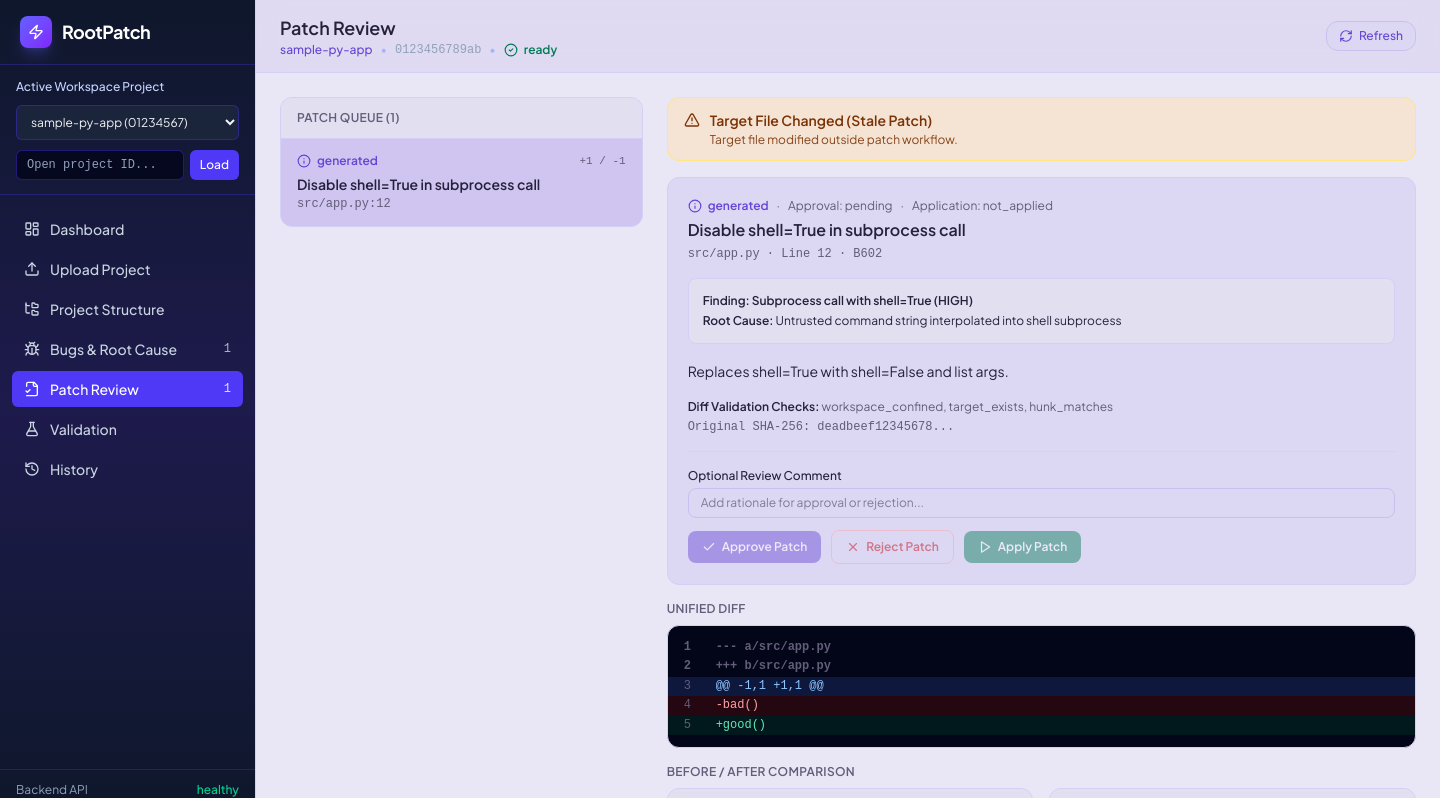
Test: RootPatch Step 8 Frontend Workflows › strips ANSI escape sequences and disables apply/validate on stale or unapplied patches
Expected: the text "Target File Changed (Stale Patch)" is shown, x1=710 y1=110 x2=958 y2=130
Expected: the button "Approve Patch" is disabled, x1=688 y1=531 x2=821 y2=563
Click the button "Validation" at coordinates (128, 429), box x1=12 y1=411 x2=243 y2=447
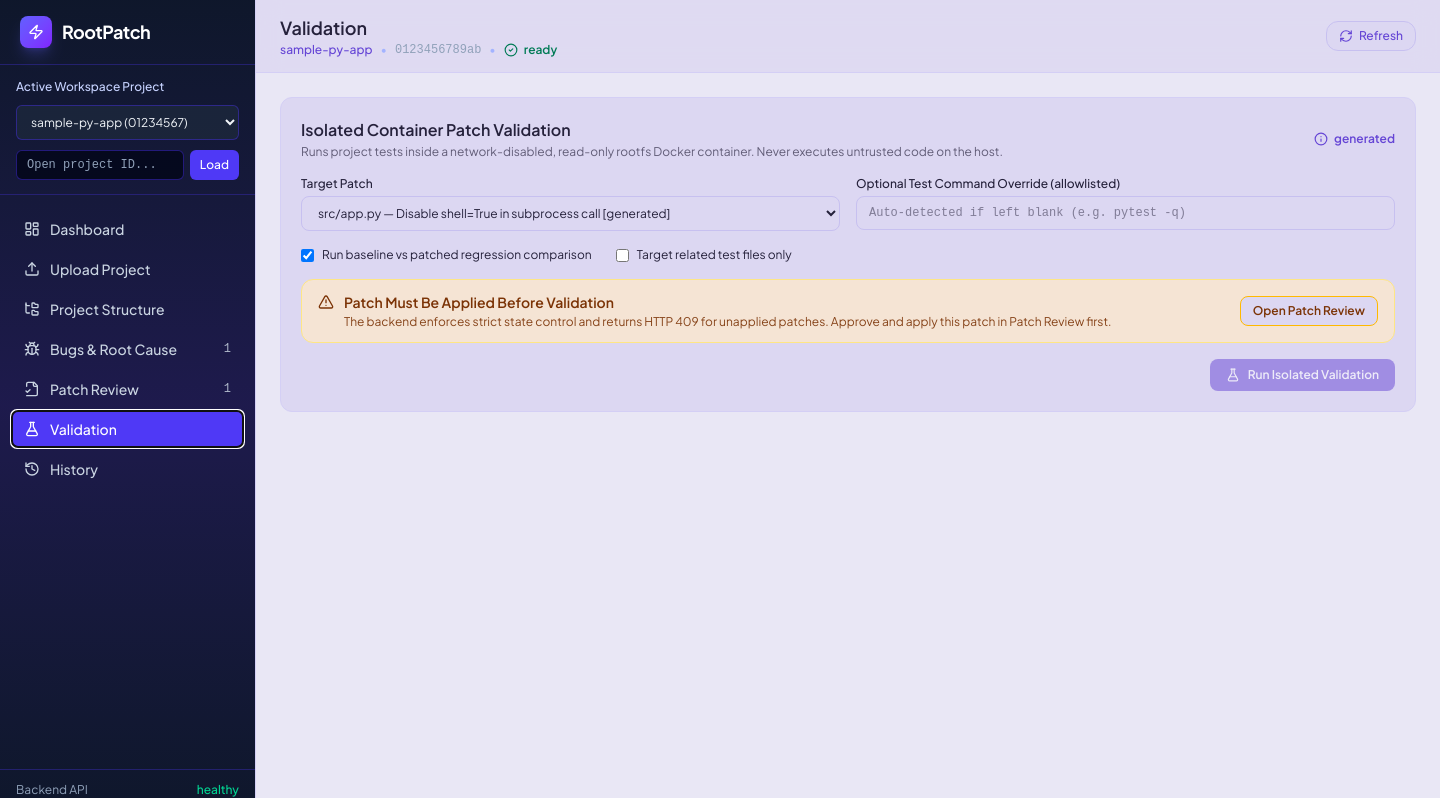
Result: the text "Patch Must Be Applied Before Validation" is shown at x1=344 y1=293 x2=614 y2=311
Result: the button "Run Isolated Validation" is disabled at x1=1210 y1=359 x2=1395 y2=391
